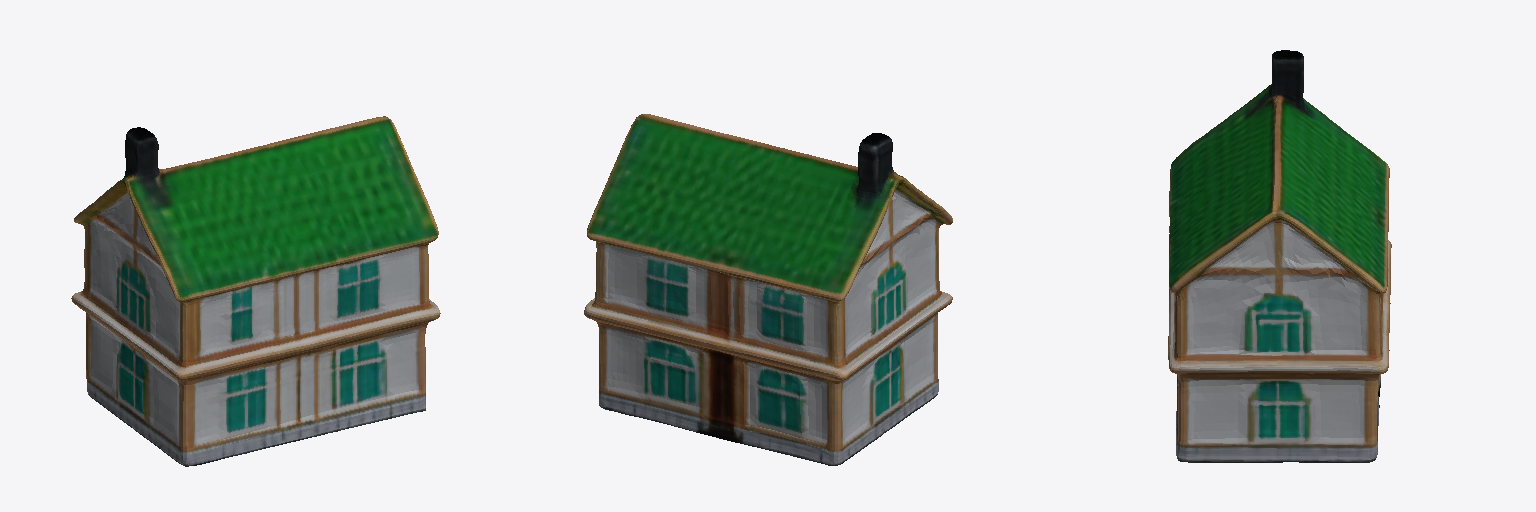
The picture shows the model from 3 angles: view 1: azimuth 30°, elevation 25°; view 2: azimuth 150°, elevation 25°; view 3: azimuth 270°, elevation 25°; orthographic projection.
Visible parts, largest first — view 1: mesh; view 2: mesh; view 3: mesh.
Boxes of the visible parts, x1,y1,x2,y2 form: mesh: [71, 116, 440, 466]; mesh: [584, 114, 952, 465]; mesh: [1168, 50, 1391, 462].
Bounding box in the file's own units: 4.05 × 4.27 × 2.92.
1 materials, 1 textured.